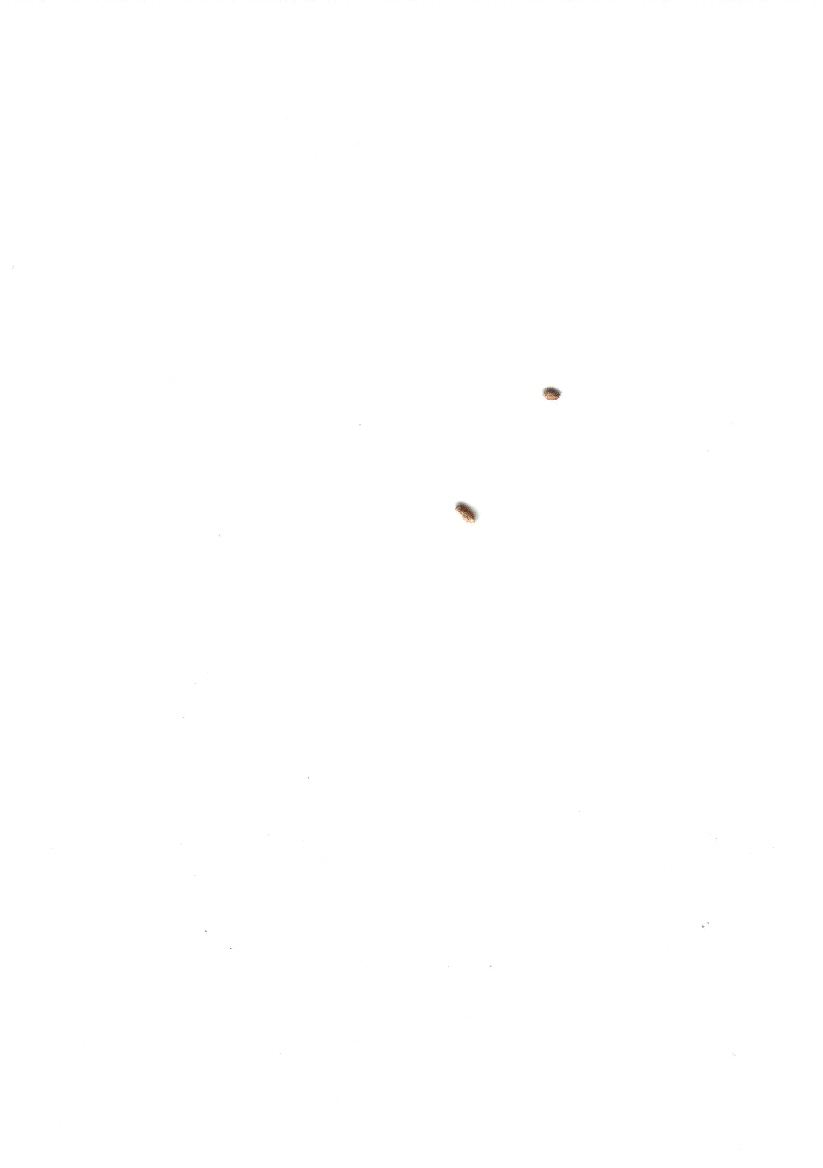grains: (442, 494, 490, 536), (536, 375, 566, 412)
